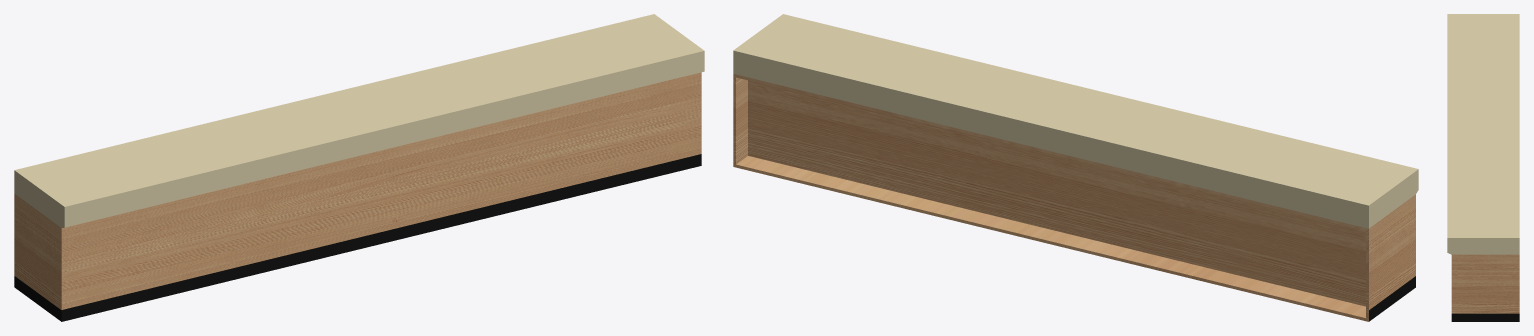
Rendered from Bar.FBX.
3 renders of one model, left to right at view 1: azimuth 30°, elevation 25°; view 2: azimuth 150°, elevation 25°; view 3: azimuth 270°, elevation 25°, orthographic. The views are drawn at different scales.
Parts seen in each view (by area): view 1: bar; view 2: bar; view 3: bar.
Boxes of the visible parts, x1,y1,x2,y2 form: bar: (14, 14, 704, 321); bar: (733, 14, 1418, 321); bar: (1447, 14, 1519, 321).
Size of the model in its own units: 515 by 90 by 70.
1 material, 1 textured.
